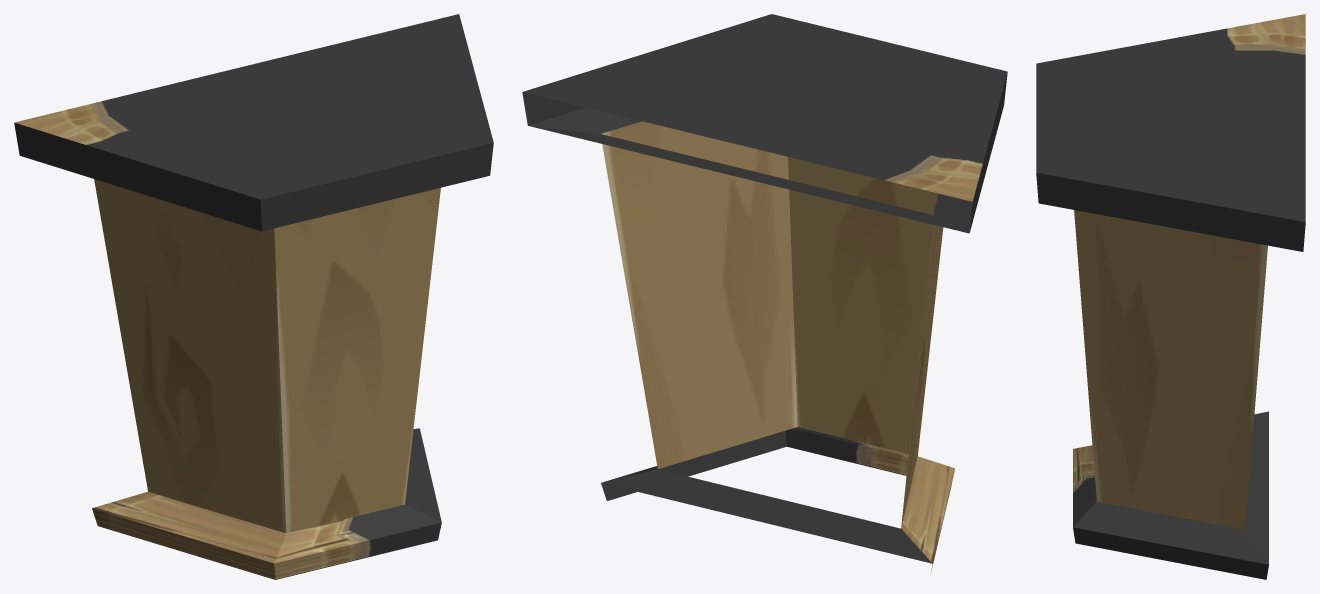
File: podium.fbx
The picture shows the model from 3 angles, left to right: view 1: azimuth 30°, elevation 25°; view 2: azimuth 150°, elevation 25°; view 3: azimuth 270°, elevation 25°; orthographic projection. The views are drawn at different scales.
Parts seen in each view (by area): view 1: pCube1; view 2: pCube1; view 3: pCube1.
Boxes of the visible parts, <box> form: pCube1: <box>14,14,493,579</box>; pCube1: <box>522,14,1007,575</box>; pCube1: <box>1036,14,1305,579</box>.
Bounding box in the file's own units: 4.65 × 4.03 × 2.54.
